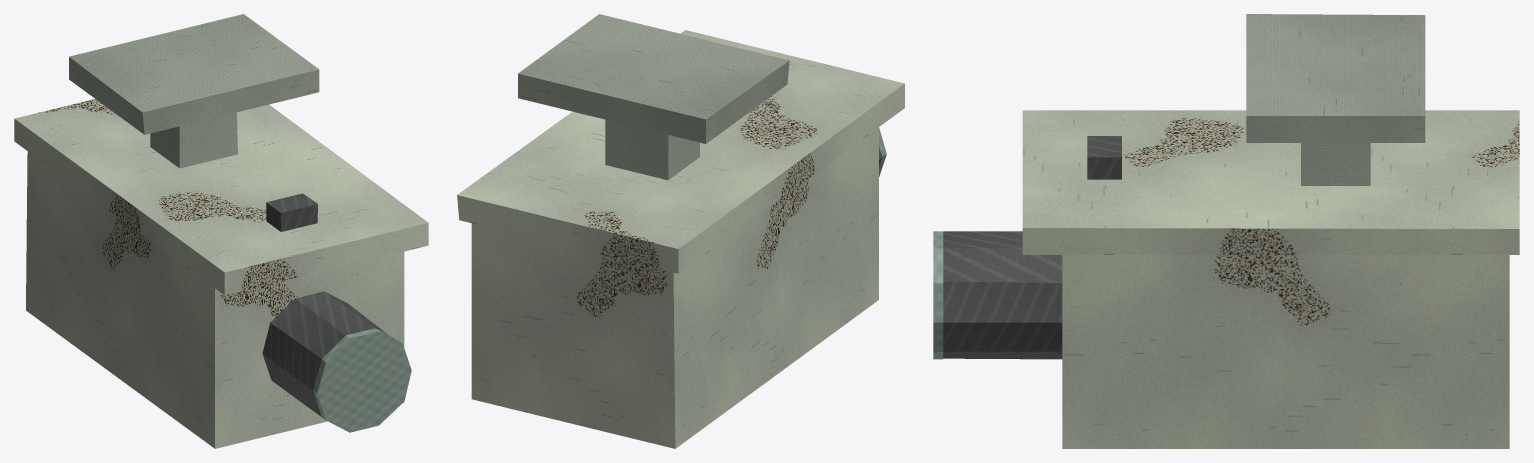
Rendered from camera2_v1.glb.
The picture shows the model from 3 angles, left to right: view 1: azimuth 30°, elevation 25°; view 2: azimuth 150°, elevation 25°; view 3: azimuth 270°, elevation 25°; orthographic projection. The views are drawn at different scales.
Visible parts, largest first — view 1: Variant_camera2_1; view 2: Variant_camera2_1; view 3: Variant_camera2_1.
Part boxes in pixels (x1,y1,x2,y2): Variant_camera2_1: (14,14,428,448); Variant_camera2_1: (457,14,904,448); Variant_camera2_1: (933,14,1519,448).
Size of the model in its own units: 0.1131 by 0.146 by 0.236.
Materials: 4 (4 with a texture image).
